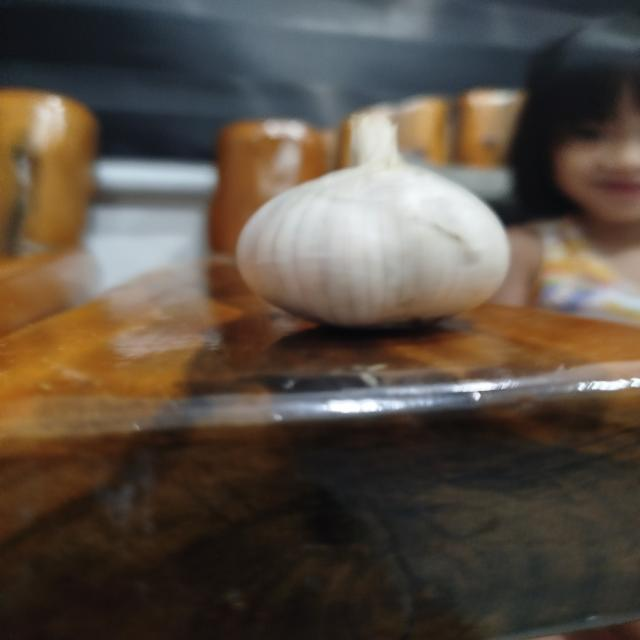garlic: (234, 112, 512, 330)
